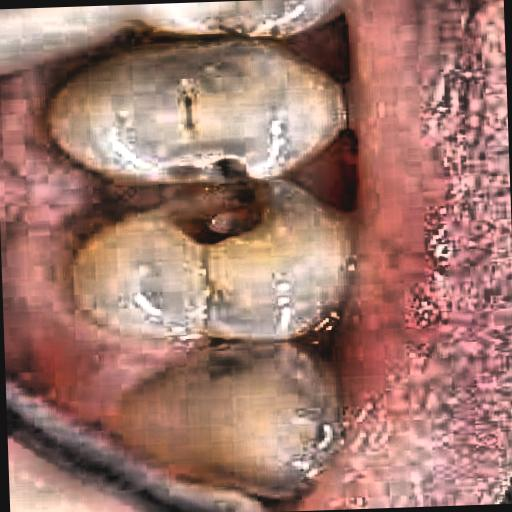Caries: (153, 120, 294, 279)
